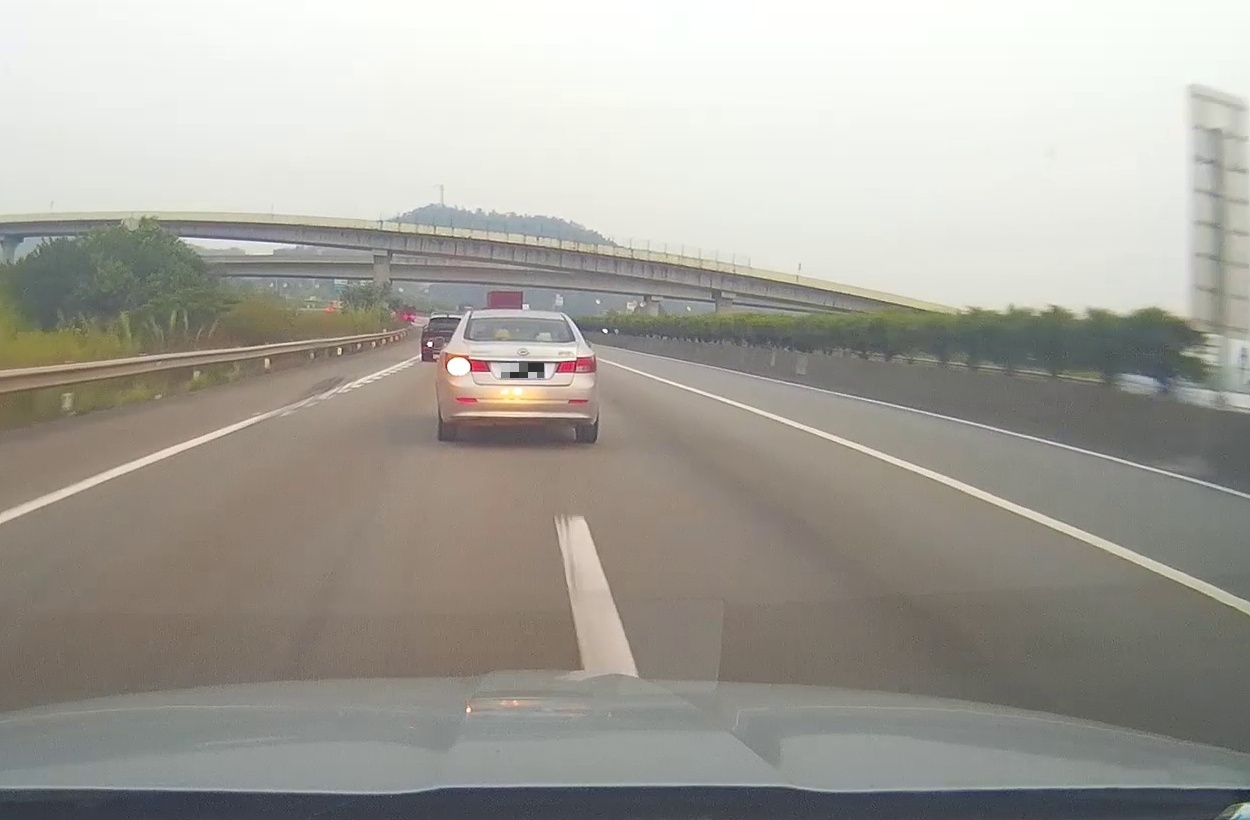L_light: (444, 352, 490, 376)
R_light: (555, 354, 597, 374)
T_light: (513, 335, 530, 341)
day-left: (436, 309, 599, 443)
plate_1: (501, 363, 544, 378)
